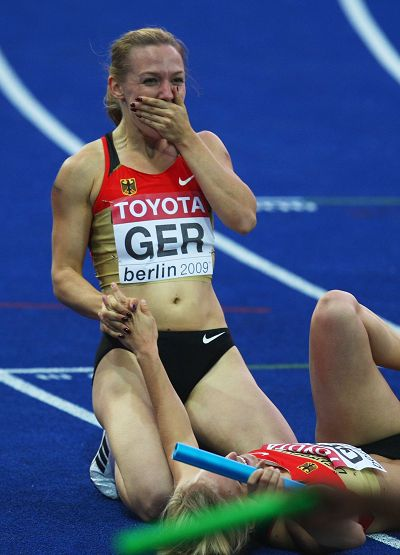face: (125, 44, 185, 136), (186, 450, 261, 501)
